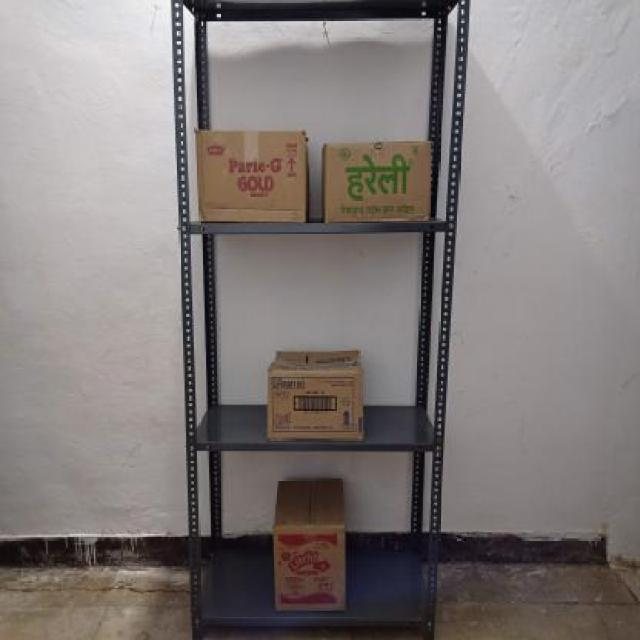box: (194, 128, 308, 222), (323, 141, 431, 221), (264, 368, 362, 442), (272, 524, 345, 616)
